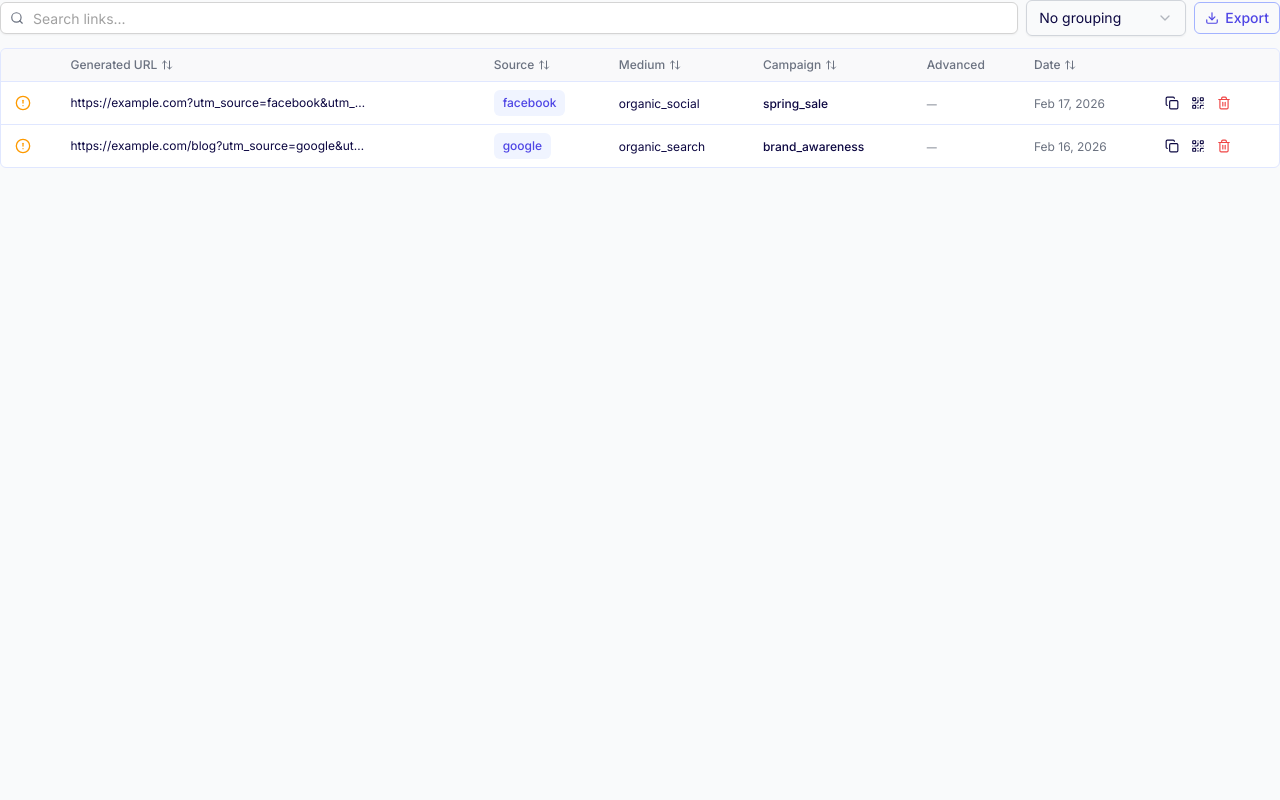
LinksTable › shows delete confirmation dialog
Click the button named "Delete link" in the row of "organic_social" at (1224, 103), box [1212, 91, 1236, 115]
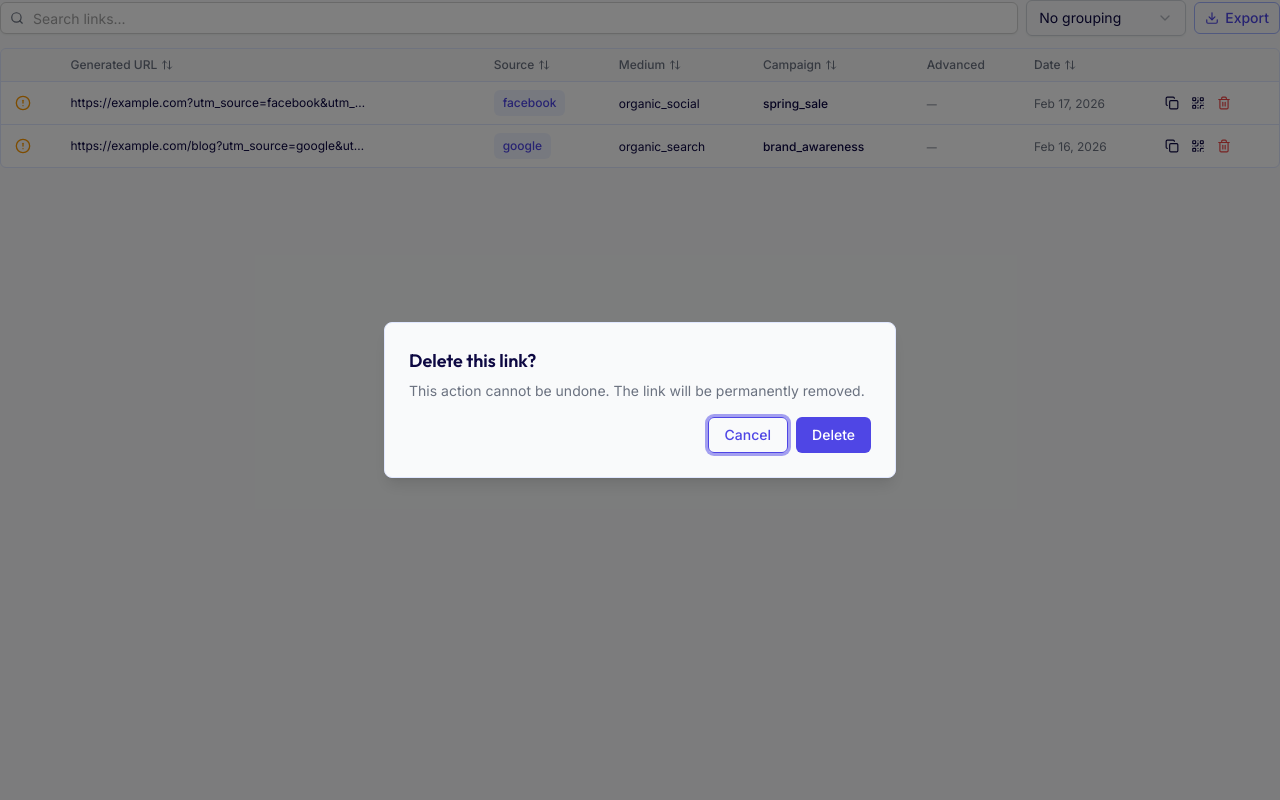
Now the heading "Delete this link?" is shown, box [409, 347, 536, 375]
Now the text "This action cannot be undone" is shown, box [409, 382, 865, 399]
